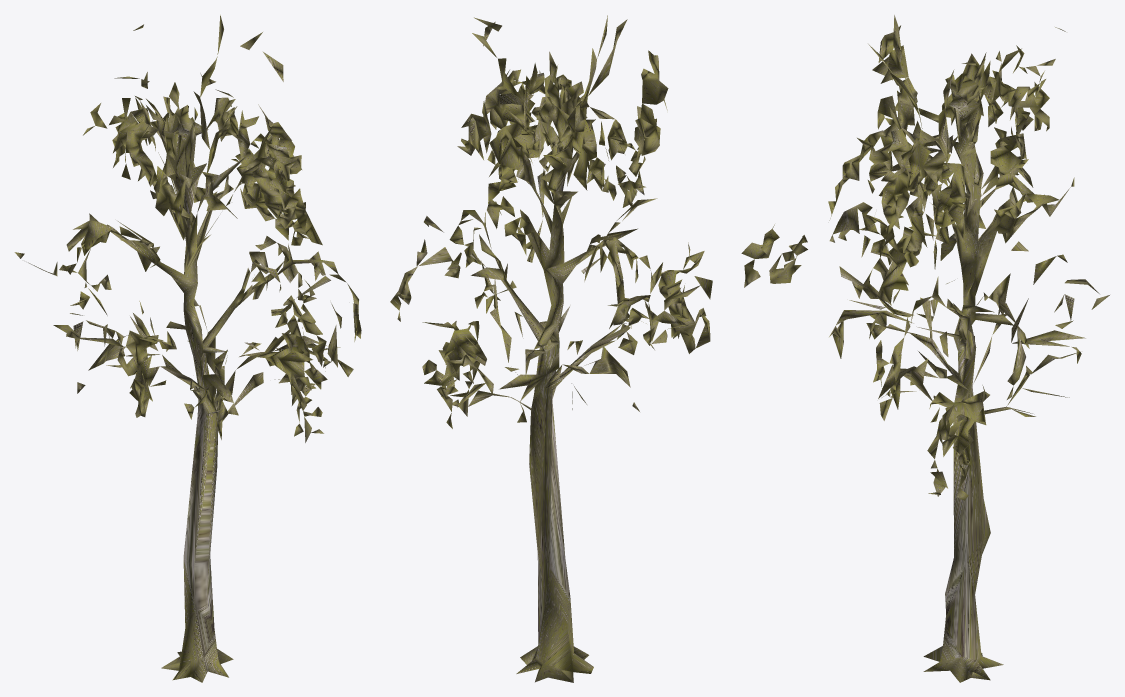
The model's file is betula-utilis-l2.glb.
3 views of the same model, side by side, from view 1: azimuth 30°, elevation 25°; view 2: azimuth 150°, elevation 25°; view 3: azimuth 270°, elevation 25° (orthographic). The views are drawn at different scales.
Visible parts, largest first — view 1: world; view 2: world; view 3: world.
Part boxes in pixels (left/top/right/bottom): world: left=14, top=15, right=361, bottom=682; world: left=390, top=15, right=712, bottom=682; world: left=741, top=15, right=1109, bottom=682.
Size of the model in its own units: 5.46 by 11.86 by 6.15.
Materials: 1 (1 with a texture image).
